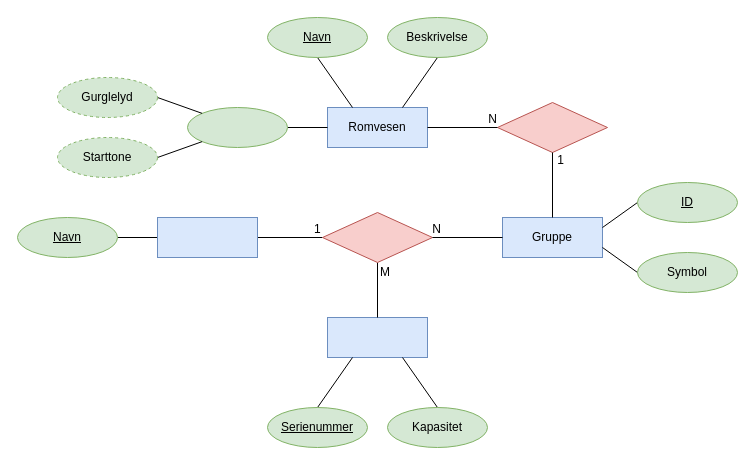
This 755x465 diagram has some shape labels left out. The shapes that lost their labels are listed below. From the top down, each one's centre as x and y in pixels, then its label:
At [237,127]: "Lyd".
At [552,127]: "Medlemskap".
At [207,237]: "Funksjon".
At [377,237]: "Arbeid".
At [377,337]: "Romskip".
